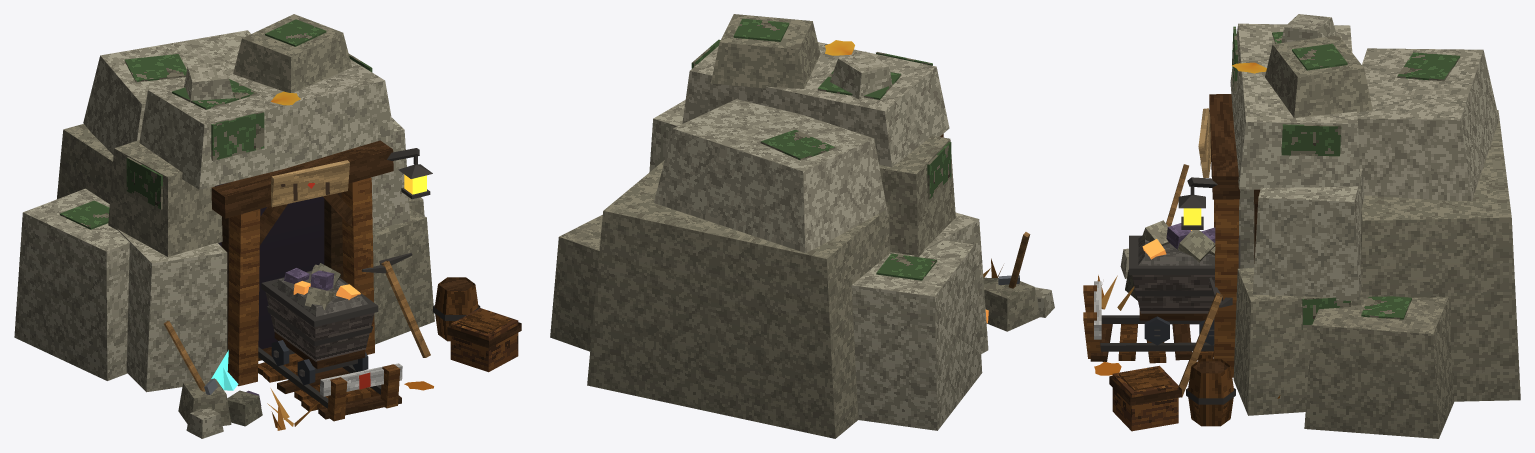
Rendered from mine_entrance.glb.
3 renders of one model, left to right at view 1: azimuth 30°, elevation 25°; view 2: azimuth 150°, elevation 25°; view 3: azimuth 270°, elevation 25°, orthographic. The views are drawn at different scales.
Visible parts, largest first — view 1: mine_entrance; view 2: mine_entrance; view 3: mine_entrance.
Part boxes in pixels (x1=…): mine_entrance: x1=14, y1=14, x2=521, y2=438; mine_entrance: x1=550, y1=14, x2=1054, y2=438; mine_entrance: x1=1083, y1=14, x2=1520, y2=438.
Bounding box in the file's own units: 4.65 × 3.5 × 4.48.
28 materials, 15 textured.
